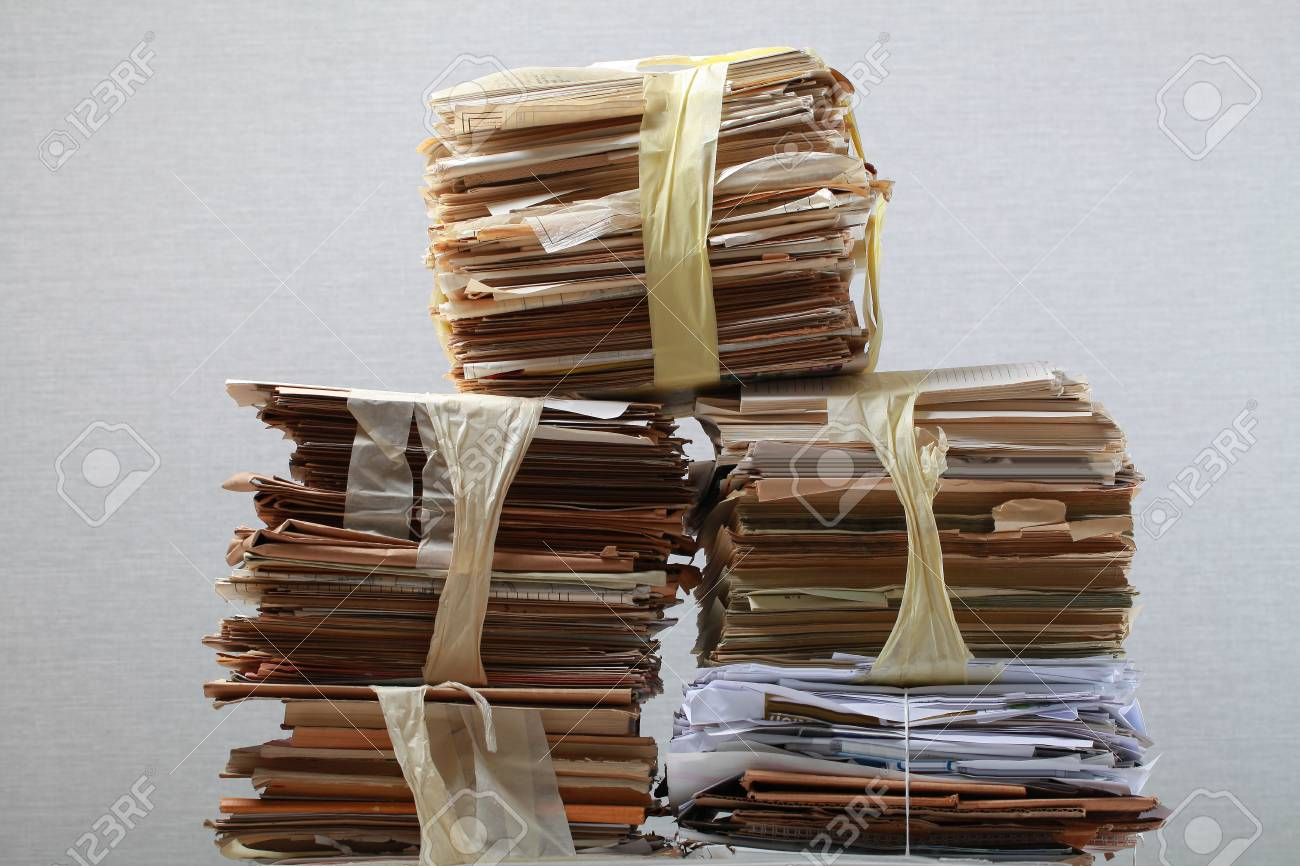paper: (657, 357, 1163, 866), (190, 376, 690, 866), (411, 38, 899, 402)
